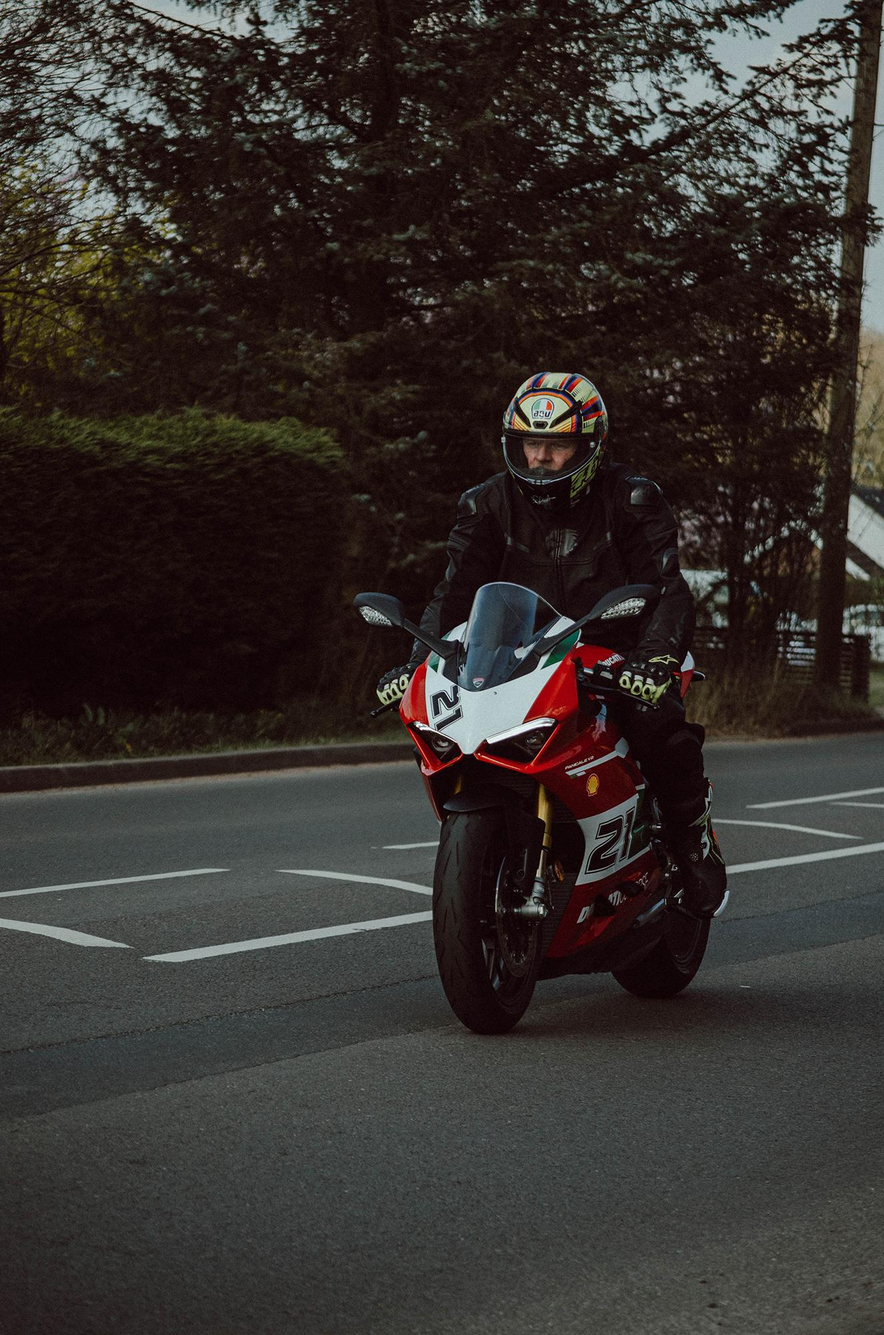helmet: (500, 370, 610, 512)
